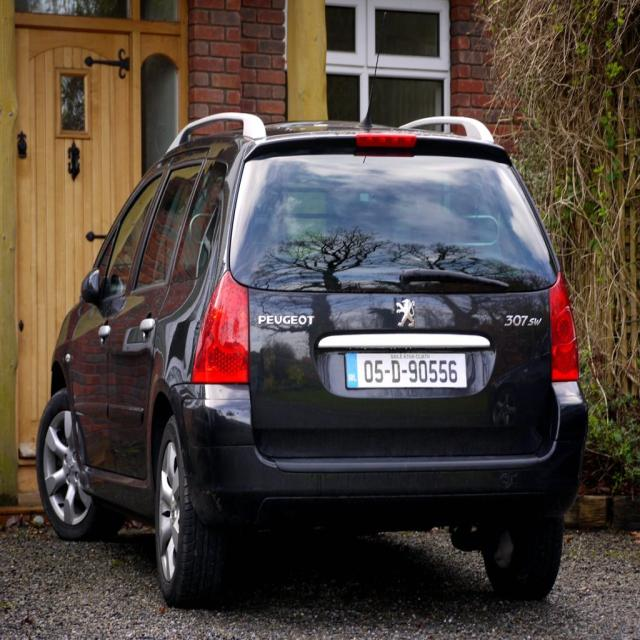car: (32, 108, 585, 602)
